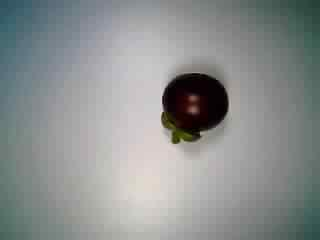mangosteen: (154, 70, 231, 149)
